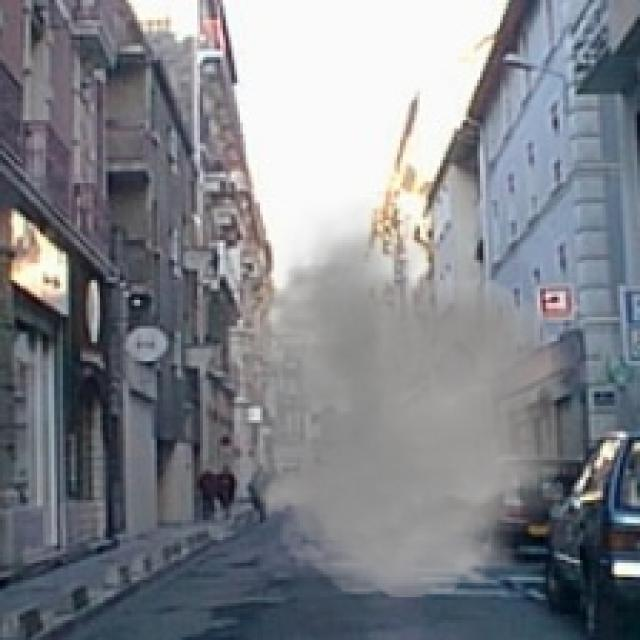smoke: (206, 197, 623, 609)
